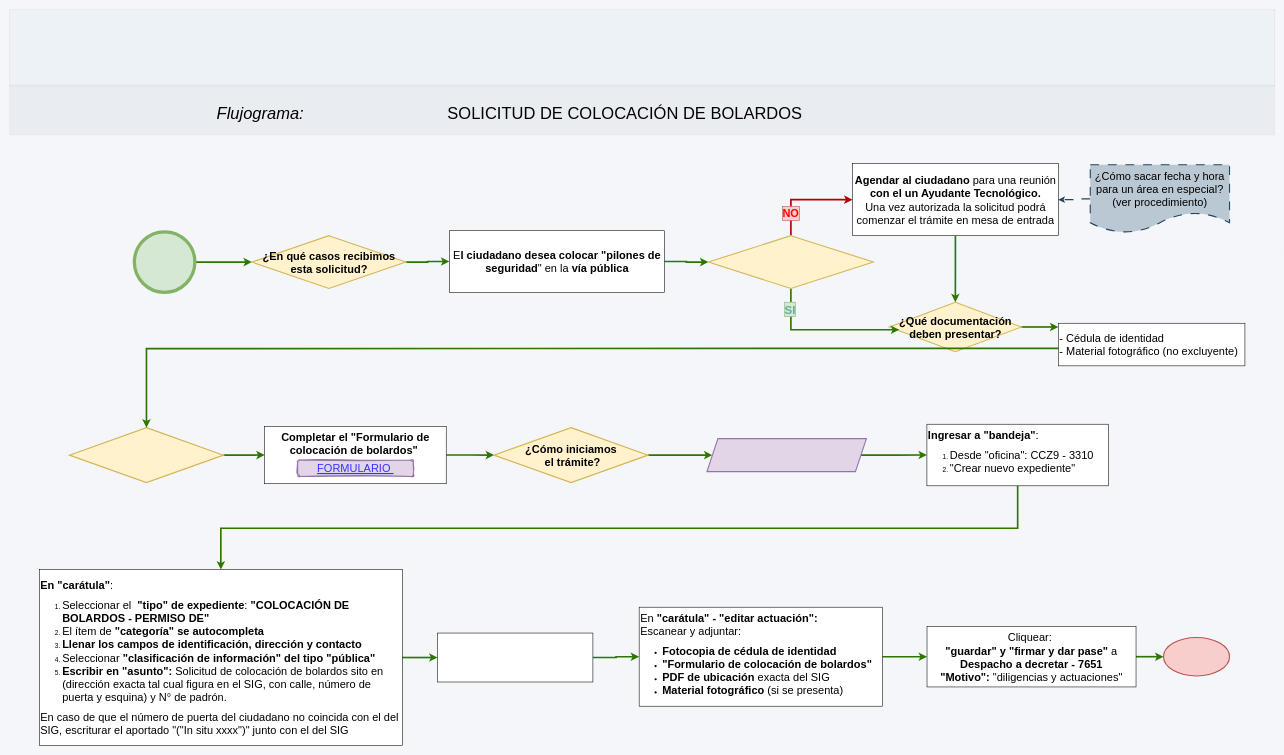
The diagram is 1284 pixels wide and 755 high, and some of its shapes have lost their labels. The box of each missing label's shape, as (x1, y1, x2, y2) in pixels:
Cliquear "guardar" e imprimir la carátula para el solicitante: (437, 632, 593, 682)
FIN: (1163, 637, 1230, 676)
INGRESAR AL SISTEMA: SEE: (706, 438, 867, 472)
INICIO: (132, 230, 196, 294)
¿El solicitante ya fue asesorado con un Ayudante Tecnológico ?: (708, 235, 874, 289)
¿Qué formulario deben completar?: (69, 427, 224, 483)
